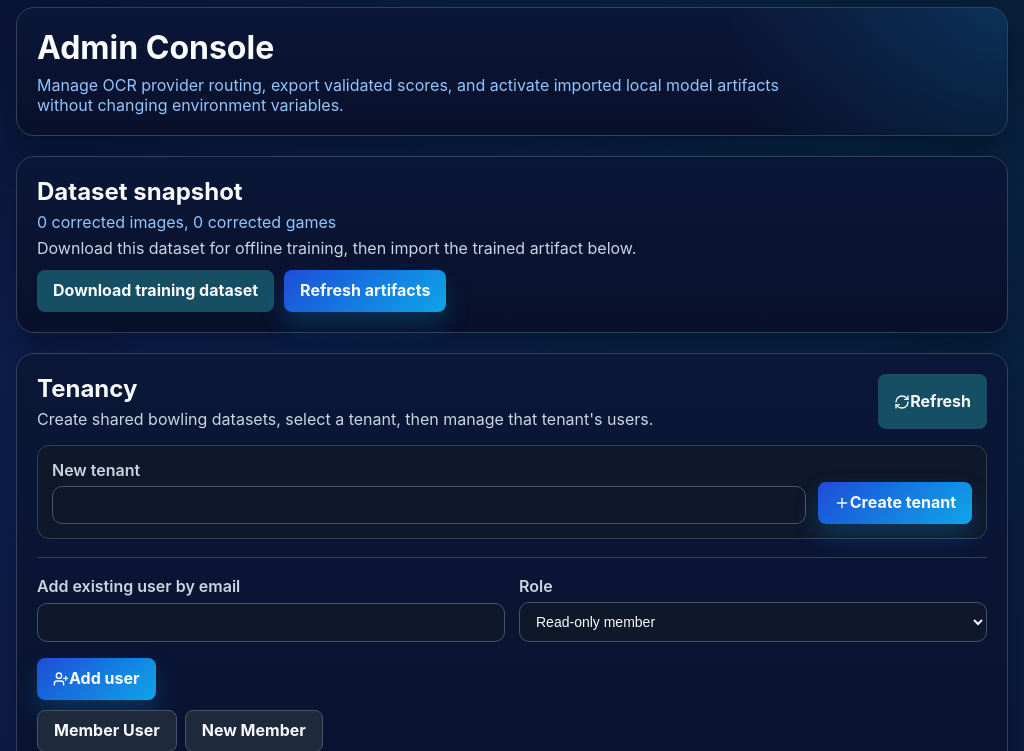
Scenario: AdminConsole tenancy management › shows the backend message when adding a user that does not exist
The image size is (1024, 751).
Step 1. Type "missing@example.com" into the field labelled "Add existing user by email" → (271, 622), box [37,603,505,642]
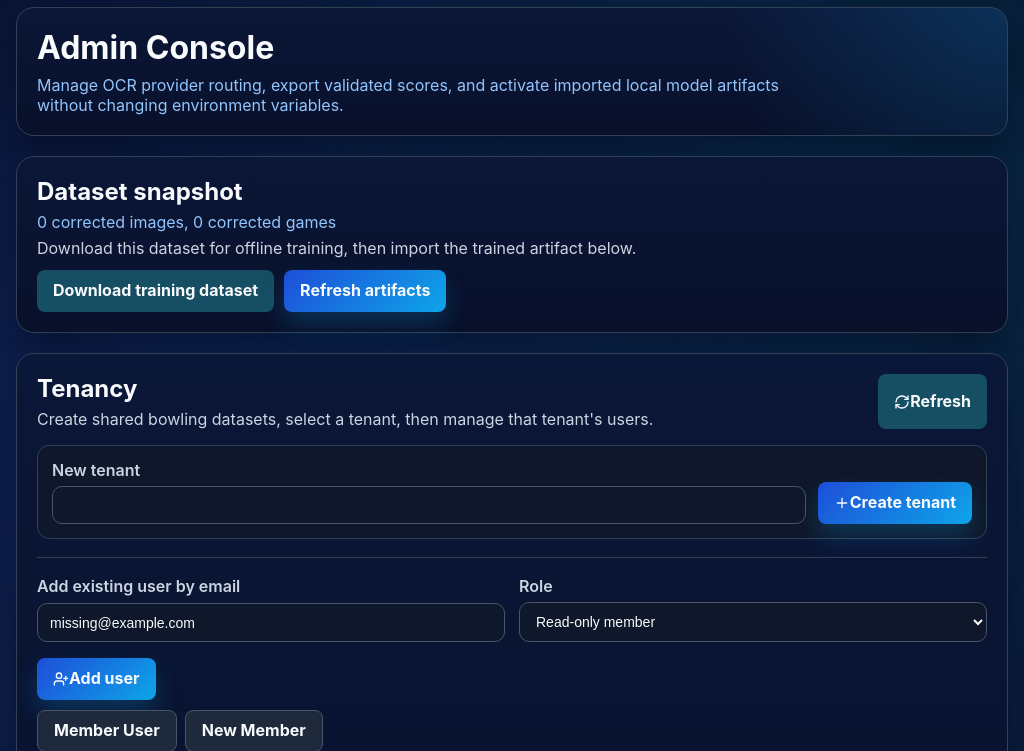
Step 2. Click the button "Add user" → click(96, 679), box [37,658,156,700]
(page scrolled)
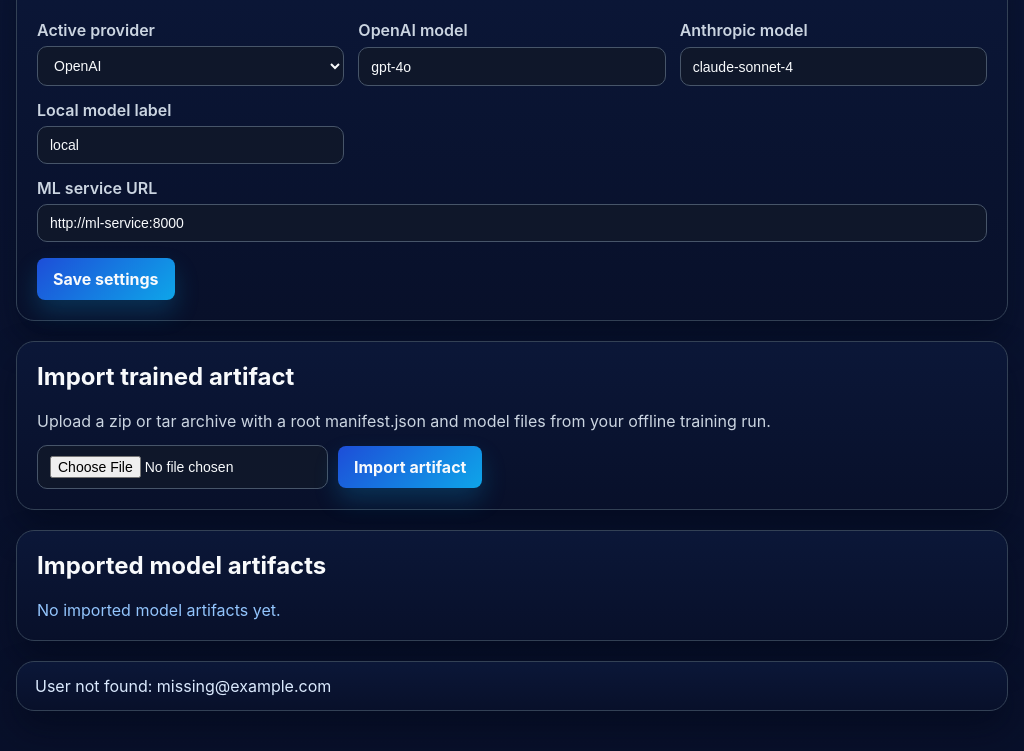
Check: the text "User not found: missing@example.com" is shown, box [35,676,331,696]
